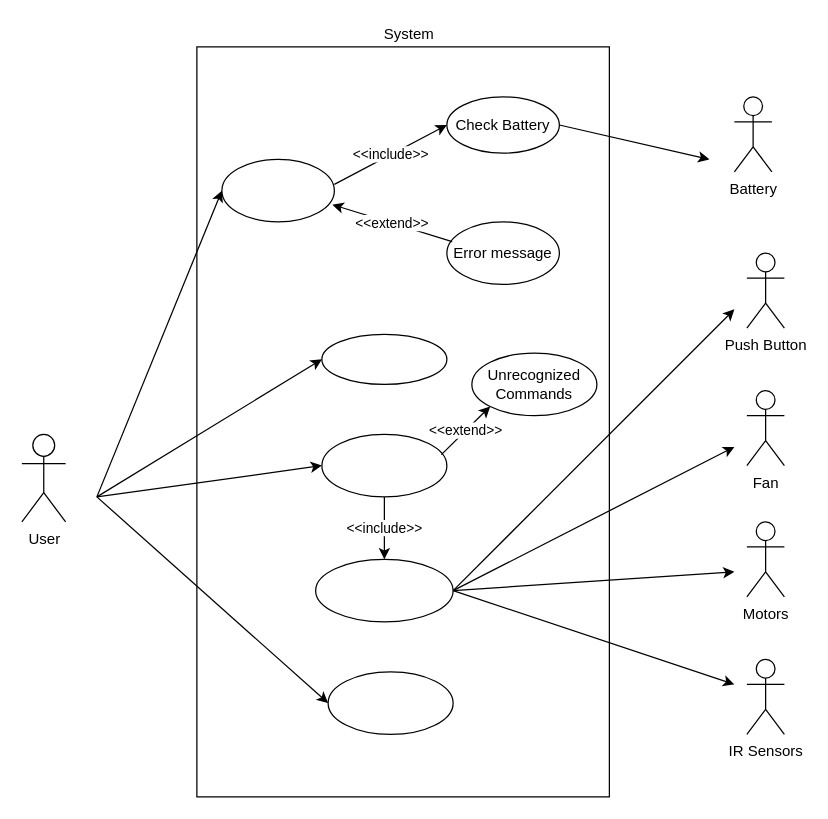
Image size: 828x819. Some labels were removed from this diagram. The shapes that lost their labels are listed below. From the top down, each one's box as (x1, y1, x2, y2) in pixels, then its label:
(221, 158, 334, 222): Switch ON
(321, 333, 447, 384): Dust Chamber
(321, 433, 447, 497): Send Commands
(314, 558, 453, 622): Process Commnads
(327, 671, 453, 734): Report
